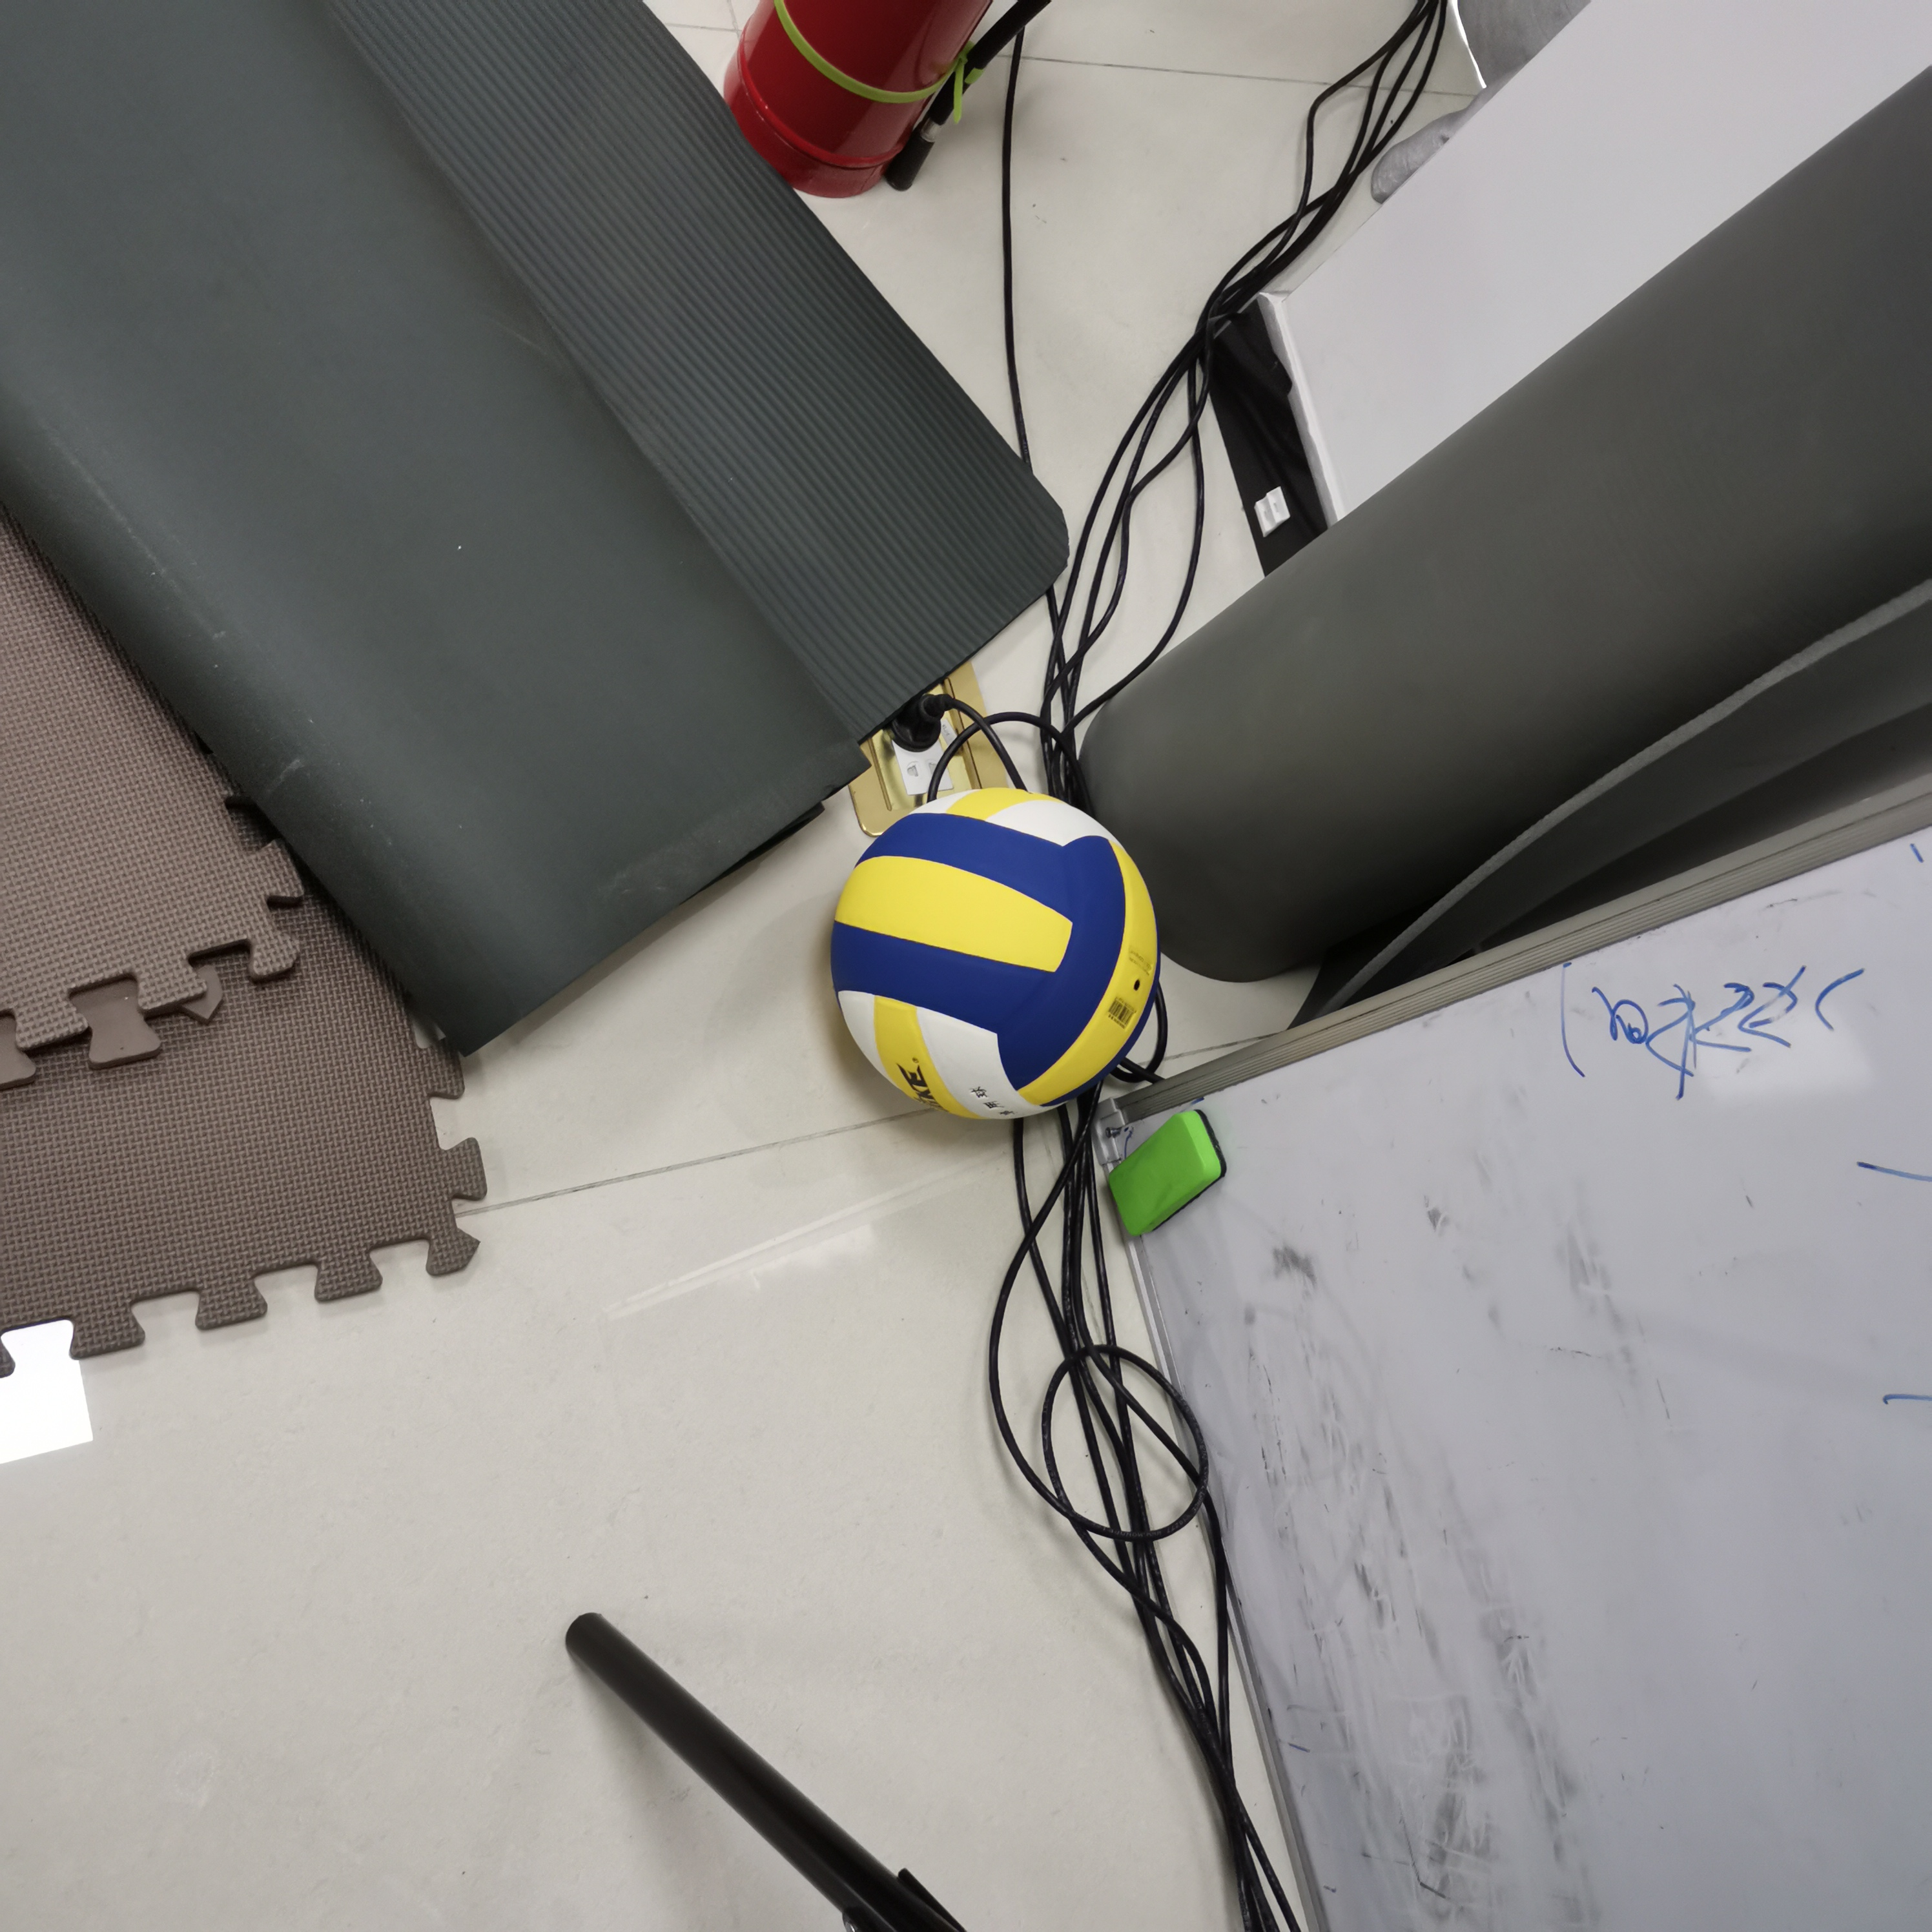volleyball: (840, 784, 1164, 1122)
